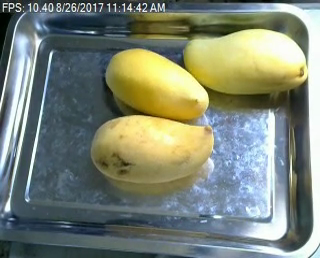Mango: (92, 114, 213, 186), (184, 28, 307, 91), (106, 47, 206, 119)
